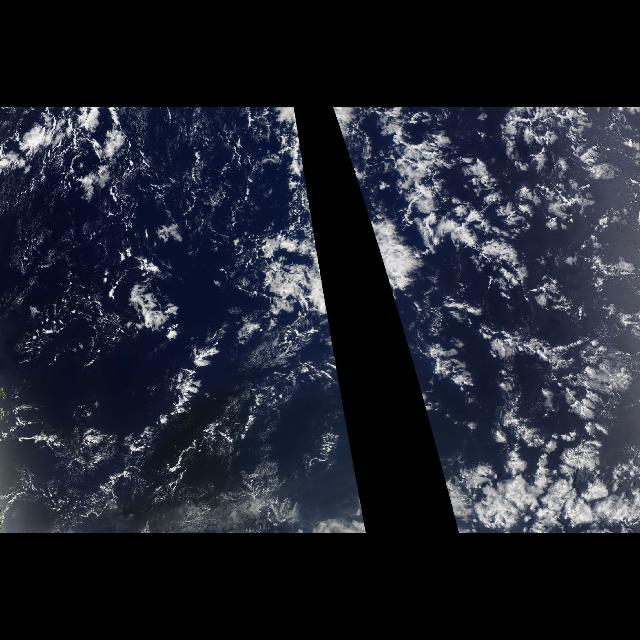Flower: (429, 384, 636, 534)
Gravel: (2, 109, 280, 391)
